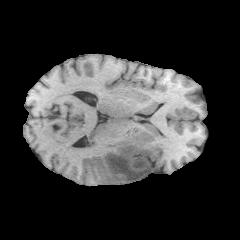glioma: (71, 141, 153, 183)
